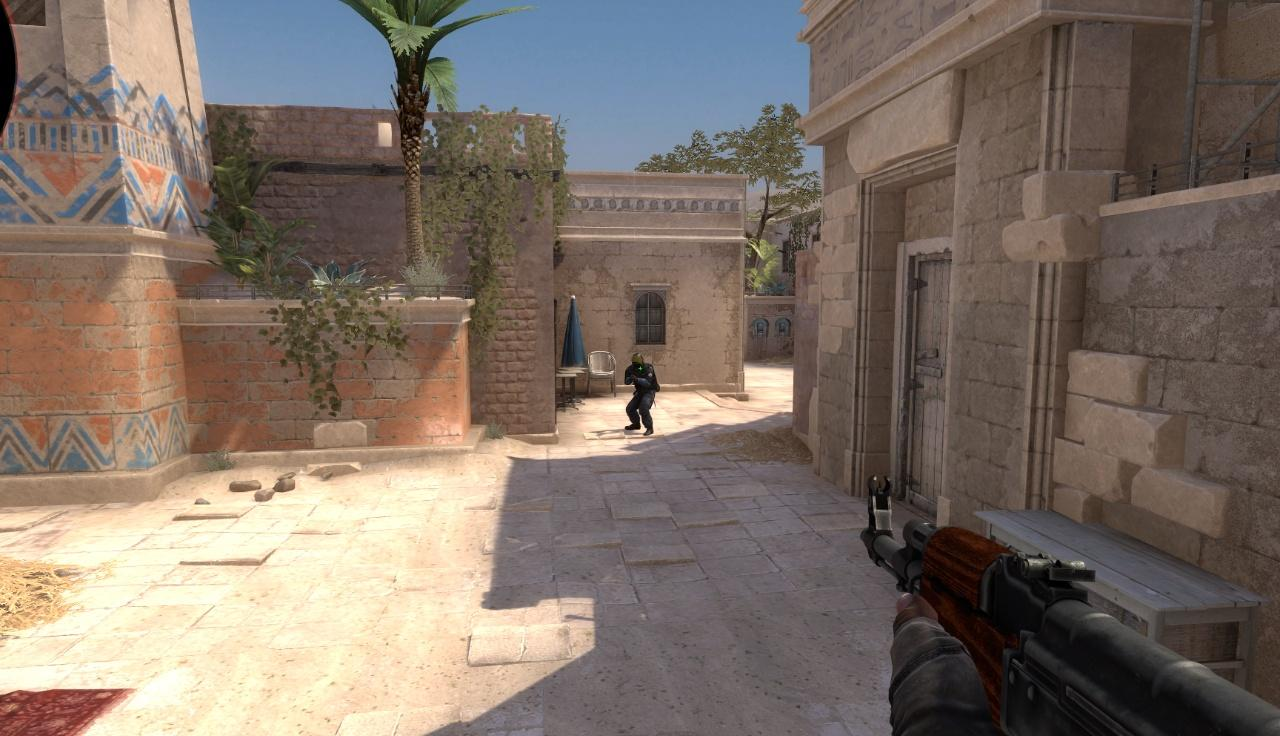ct: (626, 353, 653, 436)
cthead: (631, 353, 643, 367)
rifle: (858, 472, 1280, 736)
